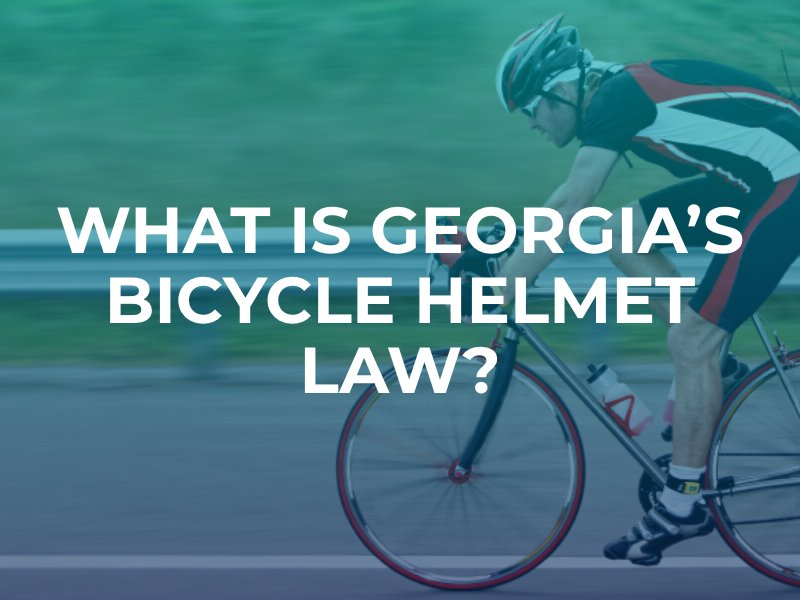helmet: (495, 13, 595, 151)
